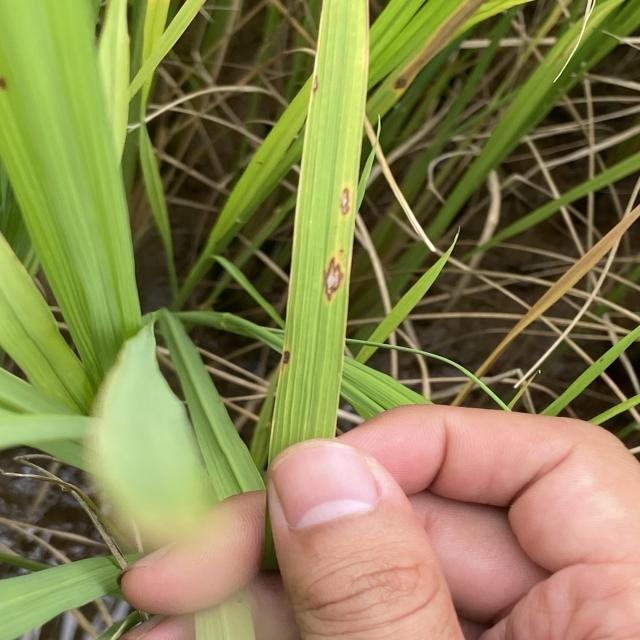Dao on: (324, 249, 345, 301), (339, 188, 350, 216), (337, 278, 340, 284)
